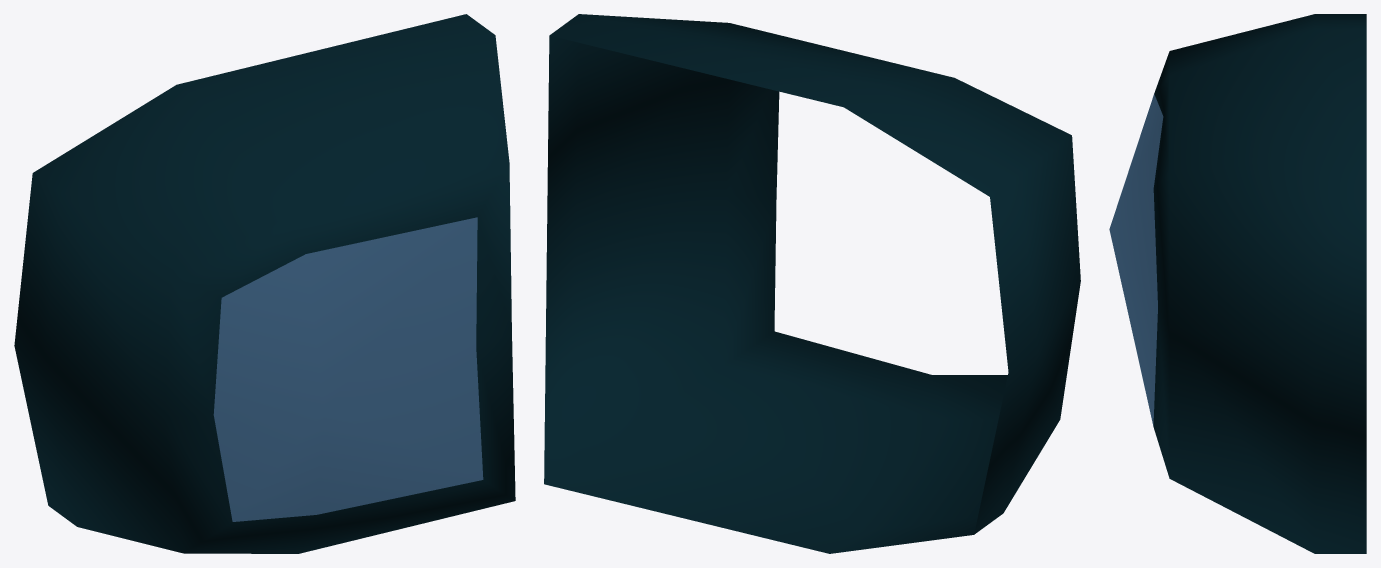
Rendered from Button_Previous.glb.
3 renders of one model, left to right at view 1: azimuth 30°, elevation 25°; view 2: azimuth 150°, elevation 25°; view 3: azimuth 270°, elevation 25°, orthographic. The views are drawn at different scales.
Visible parts, largest first — view 1: ButtonPreview; view 2: ButtonPreview; view 3: ButtonPreview.
Boxes of the visible parts, x1,y1,x2,y2 form: ButtonPreview: (14,14,515,553); ButtonPreview: (544,14,1080,553); ButtonPreview: (1109,14,1366,553).
Size of what is drawn, in the model's own units: 0.1834 by 0.1699 by 0.1.
2 materials, 2 textured.
